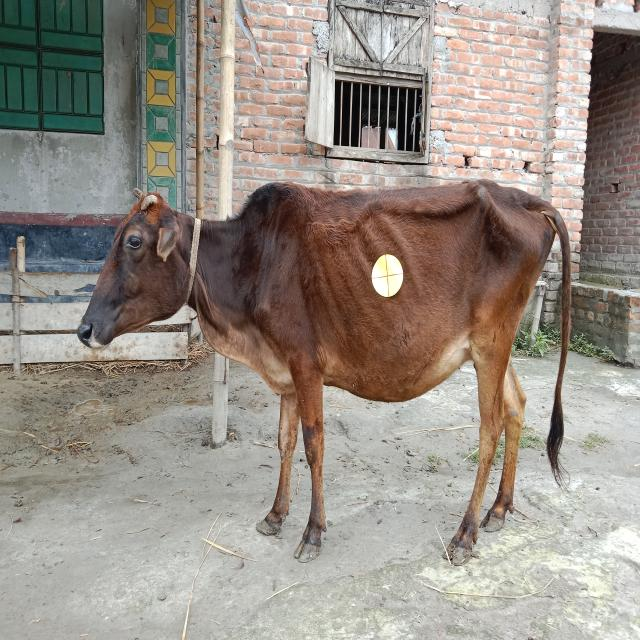badan_sapi: (245, 181, 552, 404)
sapi: (79, 161, 587, 562)
